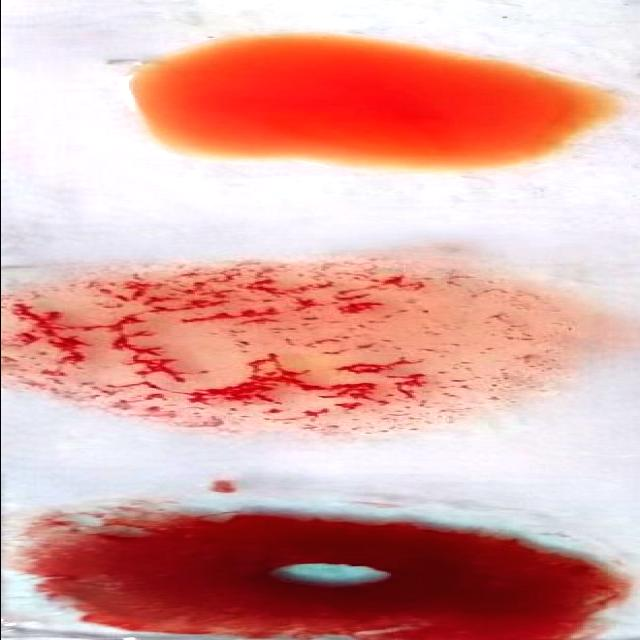A: (13, 496, 628, 636)
D: (0, 263, 620, 429)
